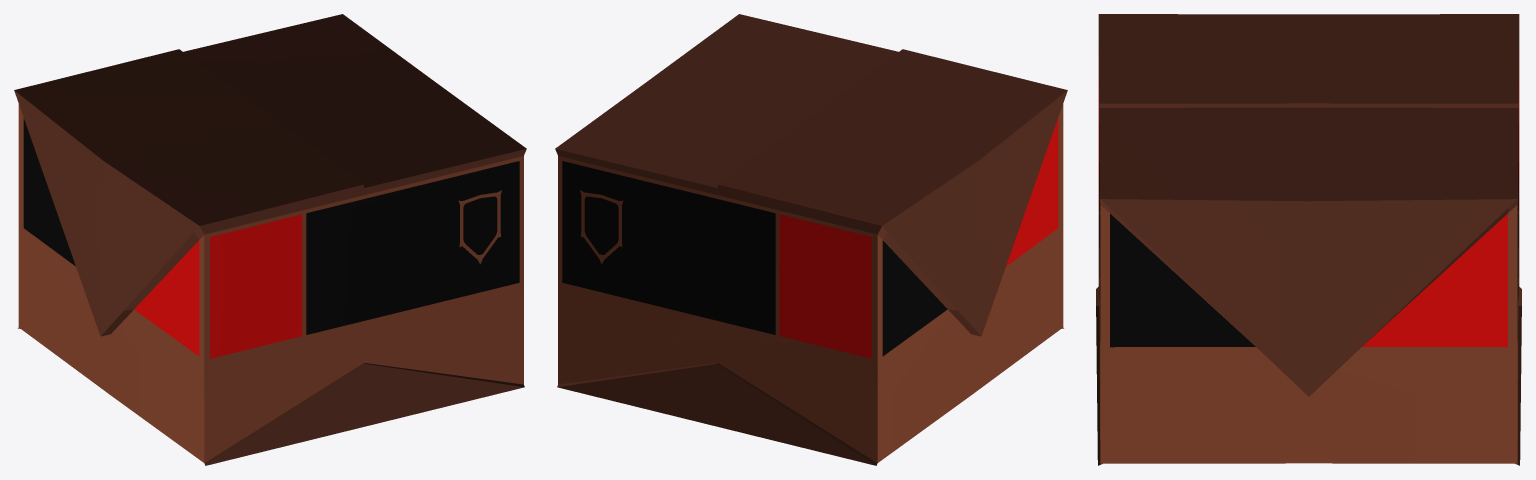
Rendered from Delivery Box.fbx.
The picture shows the model from 3 angles, left to right: view 1: azimuth 30°, elevation 25°; view 2: azimuth 150°, elevation 25°; view 3: azimuth 270°, elevation 25°; orthographic projection. The views are drawn at different scales.
Visible parts, largest first — view 1: Delivery Box; view 2: Delivery Box; view 3: Delivery Box.
Boxes of the visible parts, x1,y1,x2,y2 form: Delivery Box: [14, 14, 526, 465]; Delivery Box: [555, 14, 1067, 465]; Delivery Box: [1096, 14, 1521, 465].
Bounding box in the file's own units: 0.632 × 0.4494 × 0.6552.
